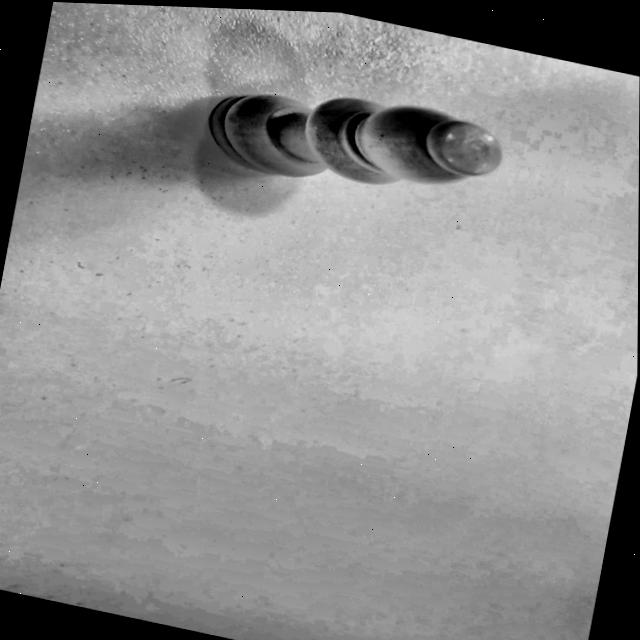white-bishop: (162, 33, 548, 261)
